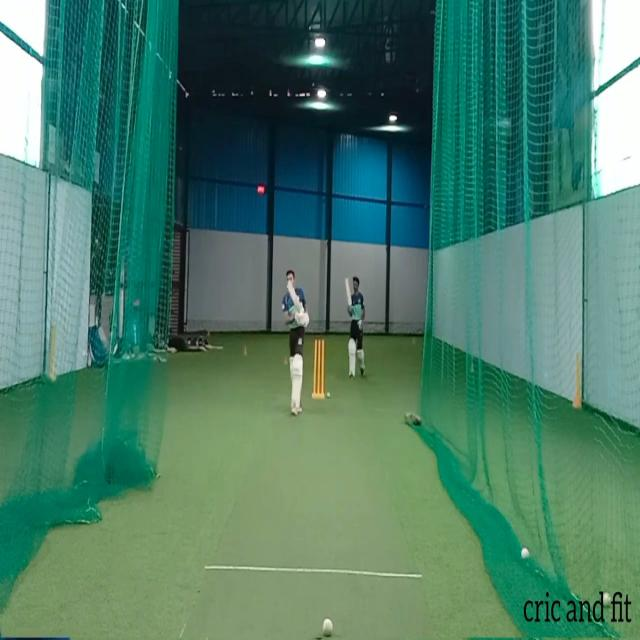batsman: (280, 268, 310, 417)
